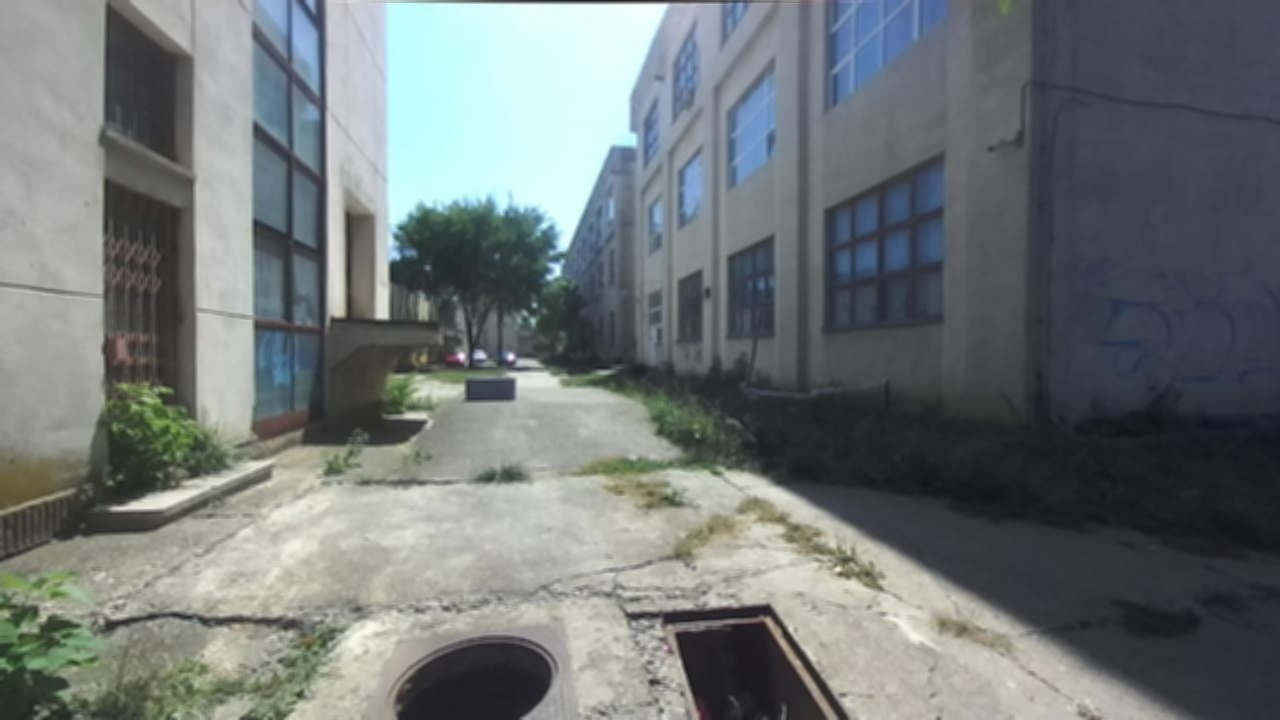drain: (658, 599, 851, 718), (382, 633, 568, 718)
